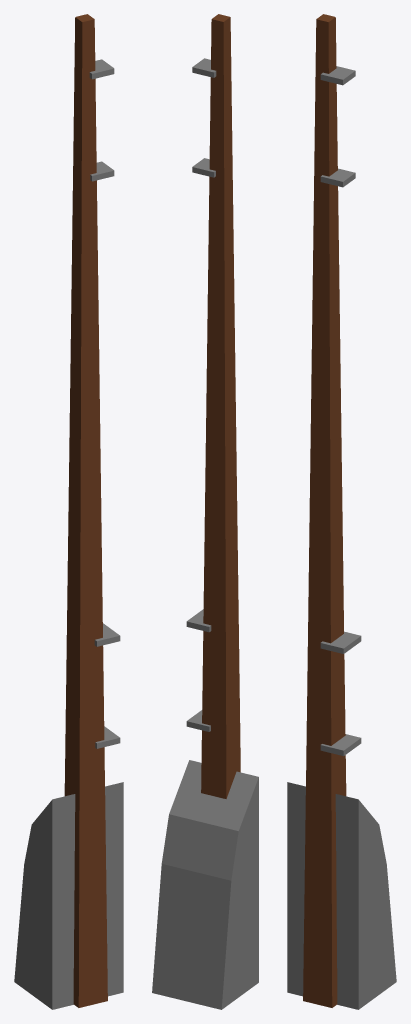
The model's file is CANNE_baton1.fbx.
3 views of the same model, side by side, from view 1: azimuth 30°, elevation 25°; view 2: azimuth 150°, elevation 25°; view 3: azimuth 330°, elevation 25° (orthographic). The views are drawn at different scales.
Parts seen in each view (by area): view 1: Cube.005; view 2: Cube.005; view 3: Cube.005.
Boxes of the visible parts, x1=… form: Cube.005: x1=14, y1=14, x2=123, y2=1009; Cube.005: x1=152, y1=14, x2=258, y2=1009; Cube.005: x1=287, y1=14, x2=396, y2=1009.
Size of the model in its own units: 5.83 by 76.69 by 6.21.
